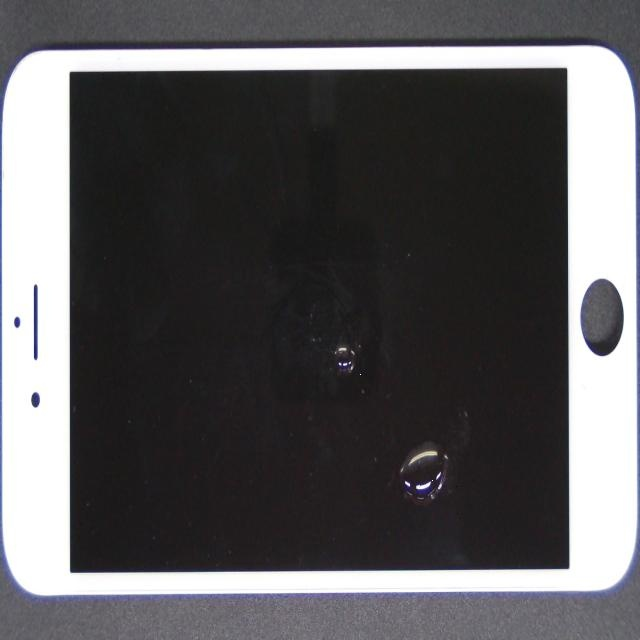oil: (236, 206, 627, 640), (194, 169, 539, 515)
